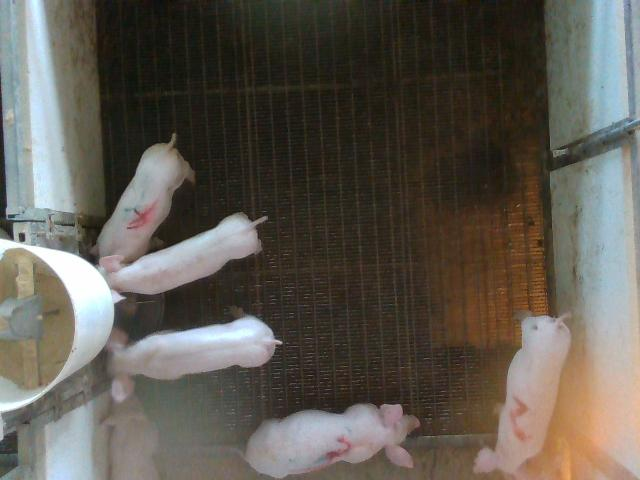pig-2: (475, 316, 571, 473)
pig-3: (245, 404, 420, 477)
pig-4: (92, 134, 195, 263)
